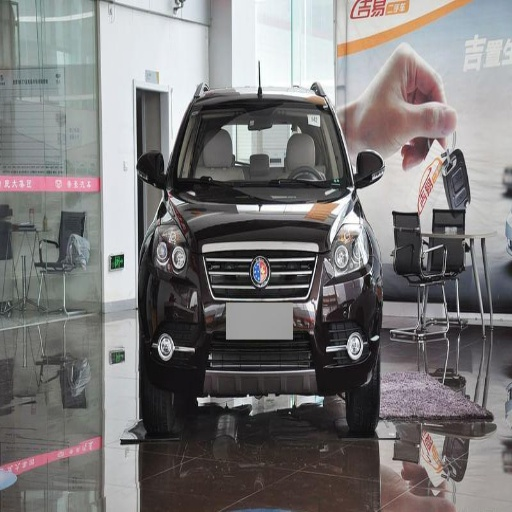front_bumper: (147, 241, 381, 401)
front_right_light: (151, 216, 188, 270)
hood: (172, 179, 357, 253)
